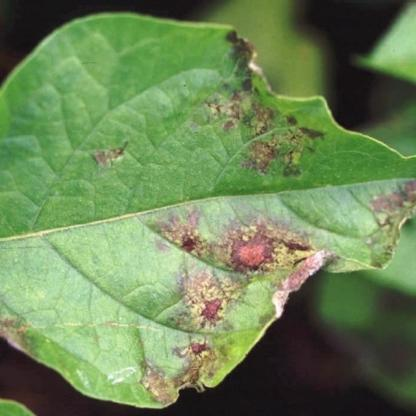Early-Blight: (31, 0, 415, 406)
